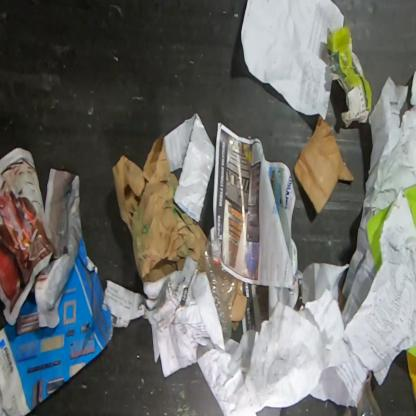cardboard: (112, 134, 208, 284), (294, 115, 354, 213), (325, 24, 372, 128), (232, 279, 248, 331)
rigid_plastic: (204, 233, 237, 346)
soft_plastic: (343, 370, 382, 415)
